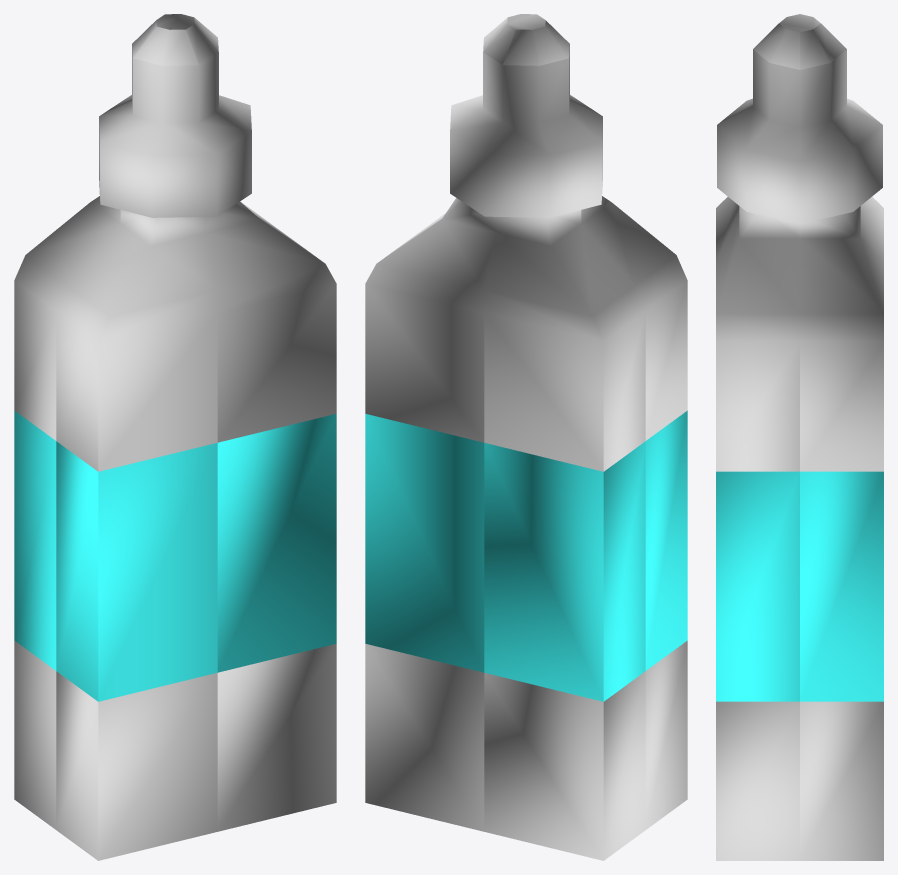
Rendered from Milk.fbx.
3 views of the same model, side by side, from view 1: azimuth 30°, elevation 25°; view 2: azimuth 150°, elevation 25°; view 3: azimuth 270°, elevation 25° (orthographic).
Parts seen in each view (by area): view 1: Node 0; view 2: Node 0; view 3: Node 0.
Boxes of the visible parts, left/top/right/bottom form: Node 0: left=14, top=14, right=336, bottom=860; Node 0: left=365, top=14, right=687, bottom=860; Node 0: left=716, top=14, right=883, bottom=860.
Bounding box in the file's own units: 0.054 × 0.2768 × 0.0886.
